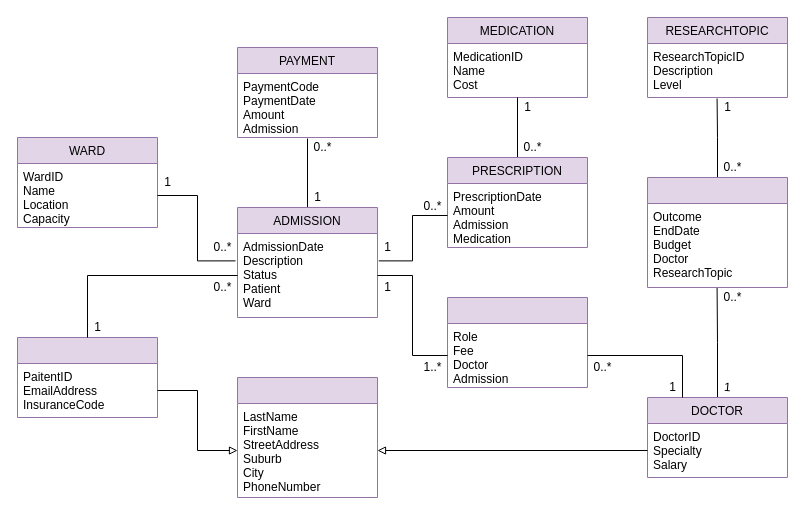
Some shapes in this 805 by 518 pixel diagram are drawn without their labels. The box of each missing label's shape, as (x1, y1, x2, y2) in pixels:
ALLOCATION: (446, 296, 588, 388)
PATIENT: (16, 336, 158, 418)
PERSON: (236, 376, 378, 498)
RESEARCHPROJECT: (646, 176, 788, 288)
